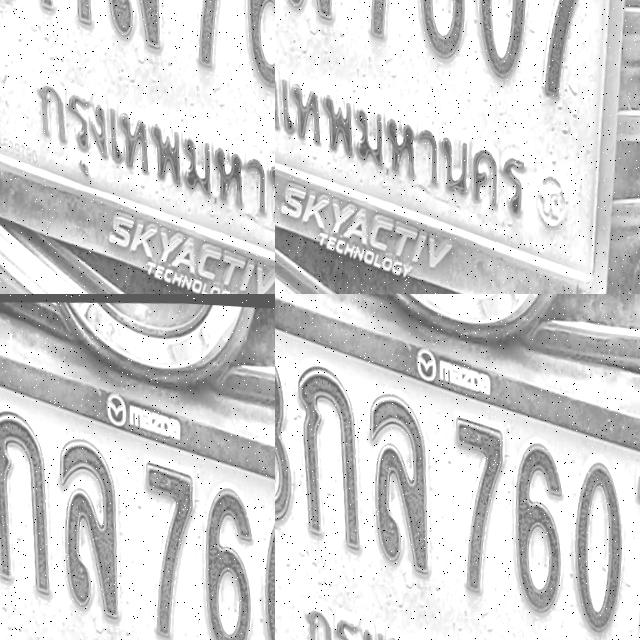license-plate: (275, 294, 640, 640), (304, 0, 340, 69)
